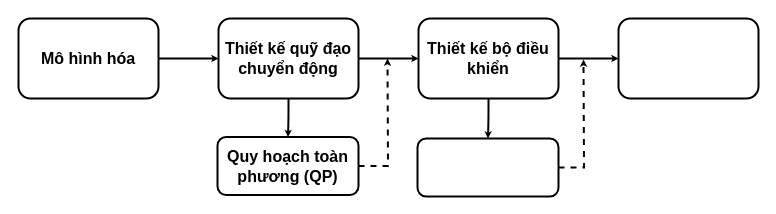
Some shapes in this 776 by 214 pixel diagram are drawn without their labels. Each missing label, with the centre of its shape:
Mô phỏng: point (688, 58)
PD + FeedForward: point (487, 167)
